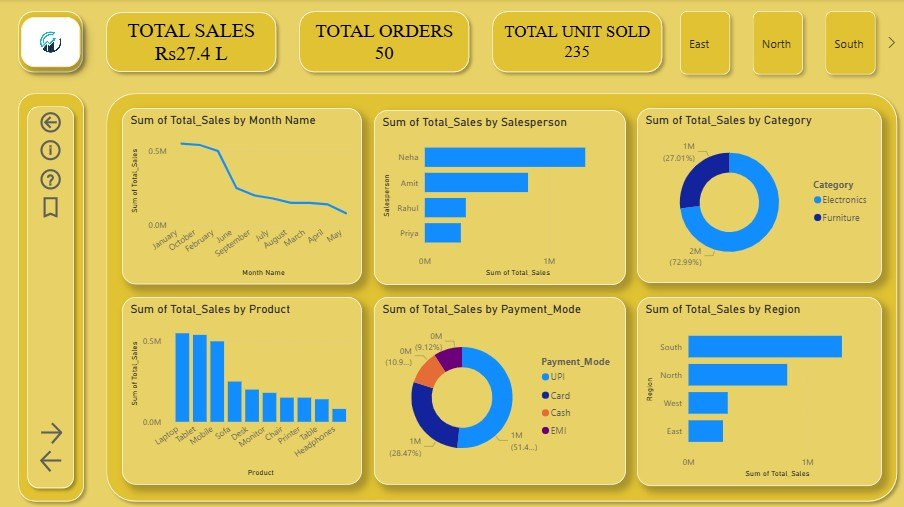

Layout of this report page (visuals, bound fields, positions):
{"tool":"powerbi","page":{"name":"Page 1","canvas":[1280,720],"ordinal":0},"visuals":[{"type":"advancedSlicerVisual","fields":{"Values":["Sales_Data.Region"]},"box":[927.2,0,352.8,124.3],"z":0},{"type":"shape","box":[141.1,124.3,1138.9,596.3],"z":1000},{"type":"shape","box":[141.1,10.1,258.7,102.5],"z":2000},{"type":"shape","box":[414.9,8.4,258.7,104.1],"z":3000},{"type":"shape","box":[688.7,8.4,258.7,104.1],"z":4000},{"type":"shape","box":[16.8,124.3,110.9,596.3],"z":5000},{"type":"shape","box":[16.8,8.4,109.2,104.1],"z":6000},{"type":"lineChart","fields":{"Category":["Sales_Data.Month Name"],"Y":["Sum(Sales_Data.Total_Sales)"]},"box":[172.5,154.9,339.8,250],"z":7000},{"type":"clusteredBarChart","fields":{"Category":["Sales_Data.Region"],"Y":["Sum(Sales_Data.Total_Sales)"]},"box":[903.2,422.6,346.9,267.6],"z":8000},{"type":"donutChart","fields":{"Category":["Sales_Data.Category"],"Y":["Sum(Sales_Data.Total_Sales)"]},"box":[903.2,154.9,346.9,248.3],"z":9000},{"type":"columnChart","fields":{"Category":["Sales_Data.Product"],"Y":["Sum(Sales_Data.Total_Sales)"]},"box":[172.5,422.6,339.8,265.9],"z":10000},{"type":"barChart","fields":{"Category":["Sales_Data.Salesperson"],"Y":["Sum(Sales_Data.Total_Sales)"]},"box":[530,156.7,357.4,248.3],"z":11000},{"type":"donutChart","fields":{"Category":["Sales_Data.Payment_Mode"],"Y":["Sum(Sales_Data.Total_Sales)"]},"box":[530,422.6,357.4,265.9],"z":12000},{"type":"image","box":[30.2,25.2,84,70.6],"z":12001},{"type":"shape","box":[30.2,142.8,84,559.4],"z":12002},{"type":"actionButton","box":[52.1,635,100.8,40.3],"z":12003},{"type":"actionButton","box":[52.1,594.6,100.8,40.3],"z":12004},{"type":"actionButton","box":[52.1,154.5,38.6,40.3],"z":12005},{"type":"actionButton","box":[52.4,194.2,38.3,41.1],"z":12006},{"type":"actionButton","box":[52.1,235.2,38.6,40.3],"z":12007},{"type":"actionButton","box":[52.1,275.5,38.6,40.3],"z":12008}]}

Visuals, with their boxes in screenshot pixels (x1, y1, x2, y2), scaled from the page's 1280x720 canvas onto the 904x507 screenshot:
advancedSlicerVisual - Sales_Data.Region: pyautogui.locateOnScreen(655, 0, 903, 88)
shape: pyautogui.locateOnScreen(100, 88, 903, 506)
shape: pyautogui.locateOnScreen(100, 7, 282, 79)
shape: pyautogui.locateOnScreen(293, 6, 476, 79)
shape: pyautogui.locateOnScreen(486, 6, 669, 79)
shape: pyautogui.locateOnScreen(12, 88, 90, 506)
shape: pyautogui.locateOnScreen(12, 6, 89, 79)
lineChart - Sales_Data.Month Name x Sum(Sales_Data.Total_Sales): pyautogui.locateOnScreen(122, 109, 362, 285)
clusteredBarChart - Sales_Data.Region x Sum(Sales_Data.Total_Sales): pyautogui.locateOnScreen(638, 298, 883, 486)
donutChart - Sales_Data.Category x Sum(Sales_Data.Total_Sales): pyautogui.locateOnScreen(638, 109, 883, 284)
columnChart - Sales_Data.Product x Sum(Sales_Data.Total_Sales): pyautogui.locateOnScreen(122, 298, 362, 485)
barChart - Sales_Data.Salesperson x Sum(Sales_Data.Total_Sales): pyautogui.locateOnScreen(374, 110, 627, 285)
donutChart - Sales_Data.Payment_Mode x Sum(Sales_Data.Total_Sales): pyautogui.locateOnScreen(374, 298, 627, 485)
image: pyautogui.locateOnScreen(21, 18, 81, 67)
shape: pyautogui.locateOnScreen(21, 101, 81, 494)
actionButton: pyautogui.locateOnScreen(37, 447, 108, 476)
actionButton: pyautogui.locateOnScreen(37, 419, 108, 447)
actionButton: pyautogui.locateOnScreen(37, 109, 64, 137)
actionButton: pyautogui.locateOnScreen(37, 137, 64, 166)
actionButton: pyautogui.locateOnScreen(37, 166, 64, 194)
actionButton: pyautogui.locateOnScreen(37, 194, 64, 222)
